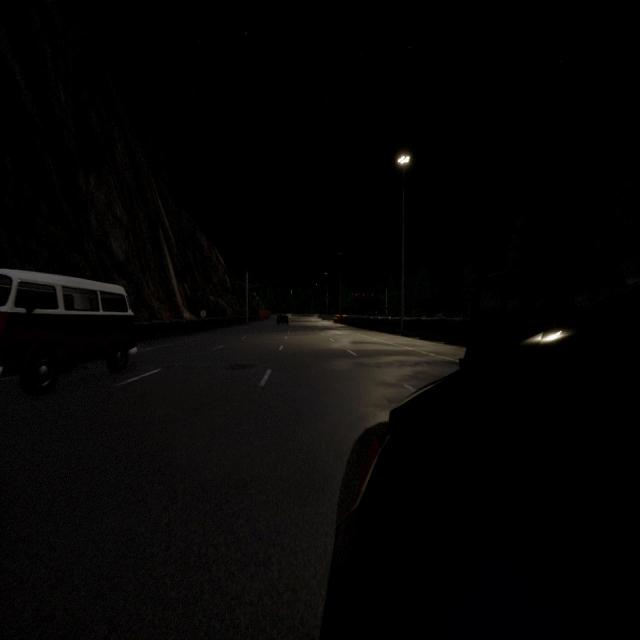Traffic_Signs: (200, 310, 206, 317)
Vehicle: (321, 286, 639, 638), (0, 269, 136, 395), (276, 314, 289, 325)
traffic_light: (355, 294, 357, 296), (386, 306, 387, 309), (363, 294, 364, 296), (372, 294, 373, 296)
